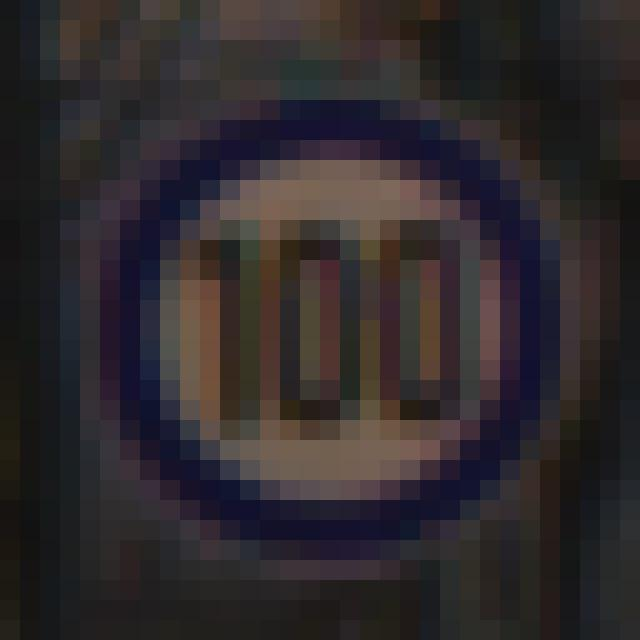SPEED LIMIT 100: (93, 109, 573, 543)
